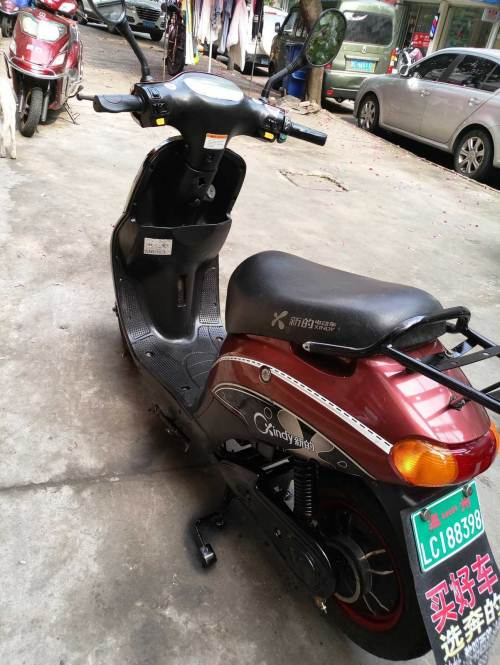电动车: (71, 1, 500, 660), (4, 2, 86, 143)
